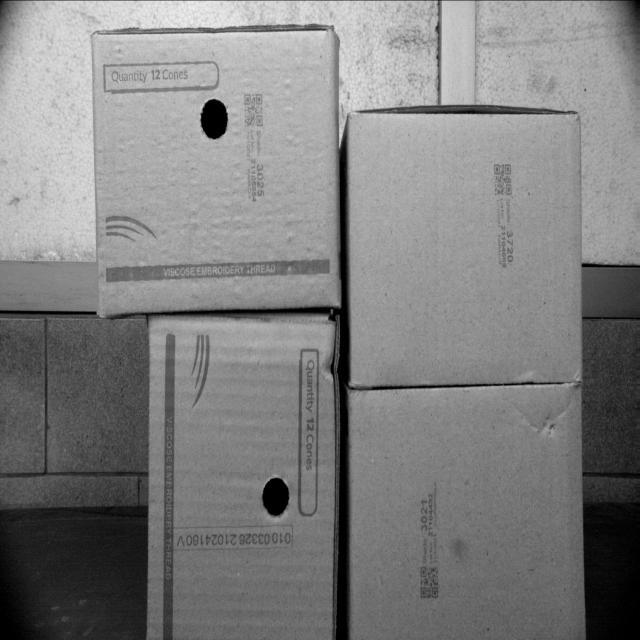box: (92, 23, 339, 310), (352, 102, 577, 382), (150, 310, 338, 640), (346, 383, 587, 639)
